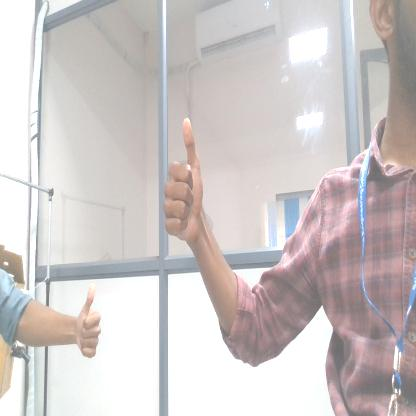Thumbs up: (154, 110, 216, 251), (71, 274, 114, 376)
